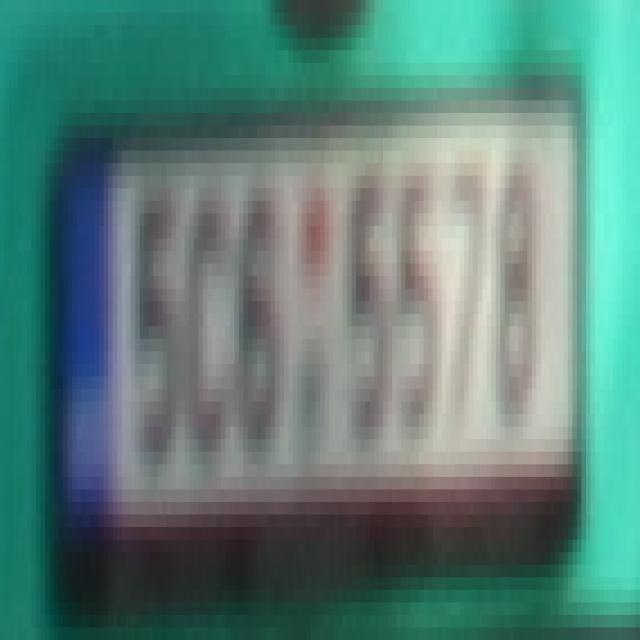5: (126, 176, 180, 452), (334, 150, 384, 427), (396, 138, 442, 427)
6: (230, 138, 275, 452)
7: (442, 138, 482, 427)
8: (487, 138, 541, 427)
C: (180, 163, 230, 452)
